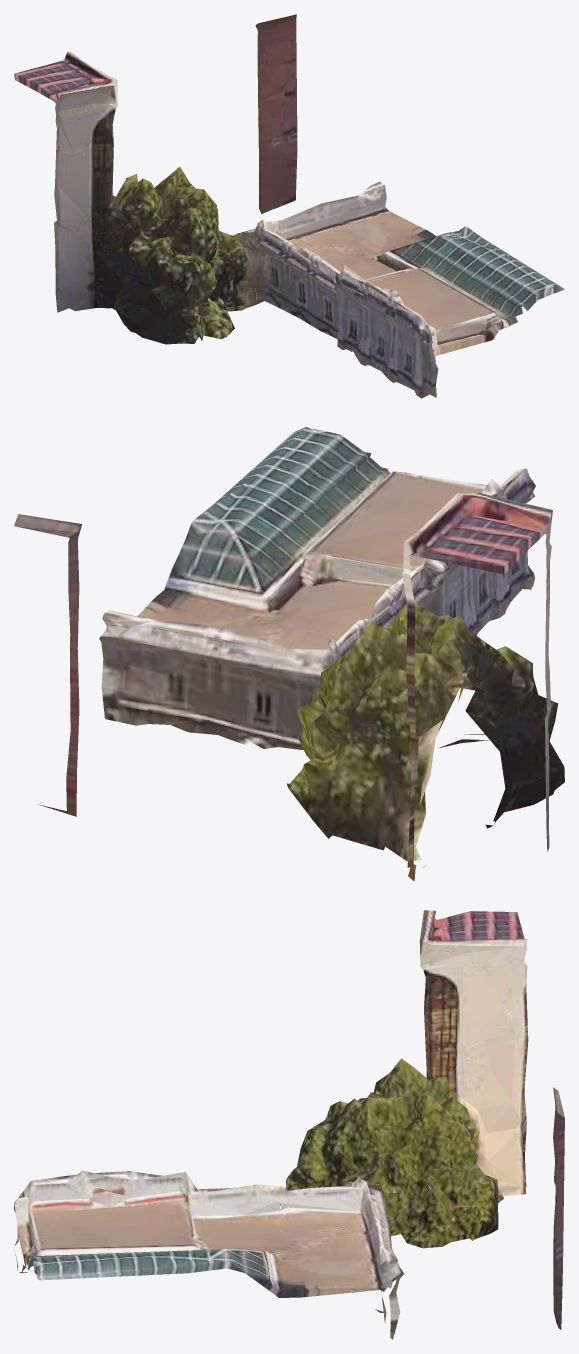
3 views of the same model, one above another, from view 1: azimuth 30°, elevation 25°; view 2: azimuth 150°, elevation 25°; view 3: azimuth 270°, elevation 25° (orthographic). The views are drawn at different scales.
Parts seen in each view (by area): view 1: Mesh_0; view 2: Mesh_0; view 3: Mesh_0.
Boxes of the visible parts, box(x1,y1,x2,y2) form: Mesh_0: box(14, 14, 564, 398); Mesh_0: box(14, 427, 564, 881); Mesh_0: box(14, 910, 564, 1339).
Bounding box in the file's own units: 33.3 × 20.8 × 39.78.
1 material, 1 textured.
